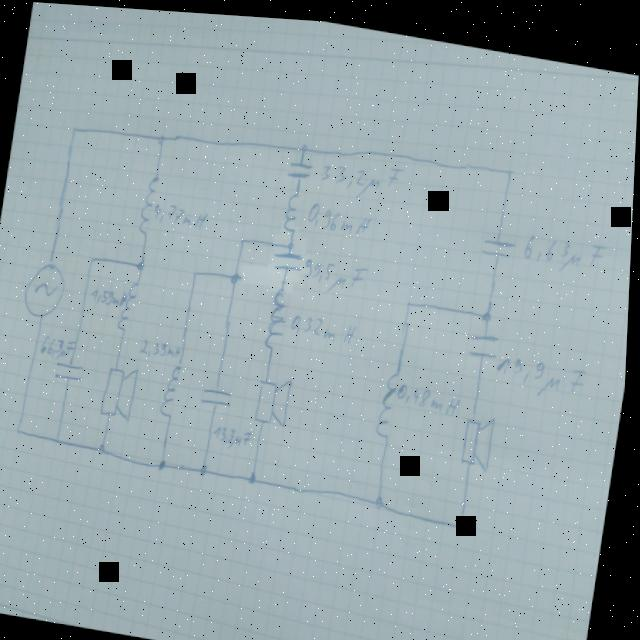capacitor: (466, 322, 503, 353), (480, 227, 519, 253), (271, 243, 307, 268), (201, 381, 236, 405), (55, 356, 87, 381), (285, 154, 316, 176)
inductor: (263, 277, 293, 351), (375, 359, 403, 438), (137, 168, 161, 238), (161, 353, 186, 417), (118, 274, 142, 332), (281, 183, 303, 232)
junction: (156, 451, 173, 471), (133, 253, 150, 273), (375, 485, 389, 506), (199, 457, 215, 475), (480, 300, 495, 319), (229, 264, 244, 283), (249, 464, 263, 484), (97, 437, 111, 455), (53, 429, 66, 447), (297, 136, 311, 151), (156, 128, 168, 144), (456, 510, 468, 526), (284, 233, 296, 249), (88, 250, 100, 266), (503, 158, 516, 172), (15, 421, 27, 436), (238, 229, 249, 245), (404, 290, 416, 304), (69, 121, 80, 136), (191, 262, 201, 278)
source: (21, 256, 70, 320)
text: (494, 345, 588, 394), (318, 149, 404, 200), (522, 223, 608, 271), (303, 251, 370, 291), (306, 193, 374, 232), (397, 373, 464, 410), (290, 306, 359, 339), (153, 195, 210, 228), (214, 418, 256, 448), (42, 331, 79, 358), (141, 334, 184, 357), (91, 282, 130, 306)
